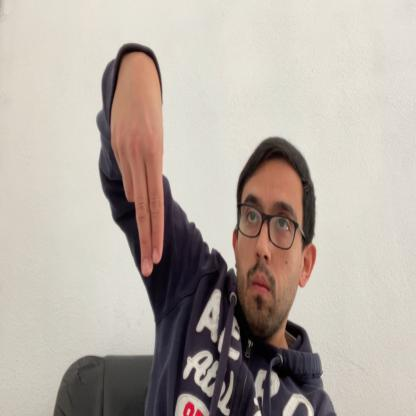N: (112, 52, 164, 278)
